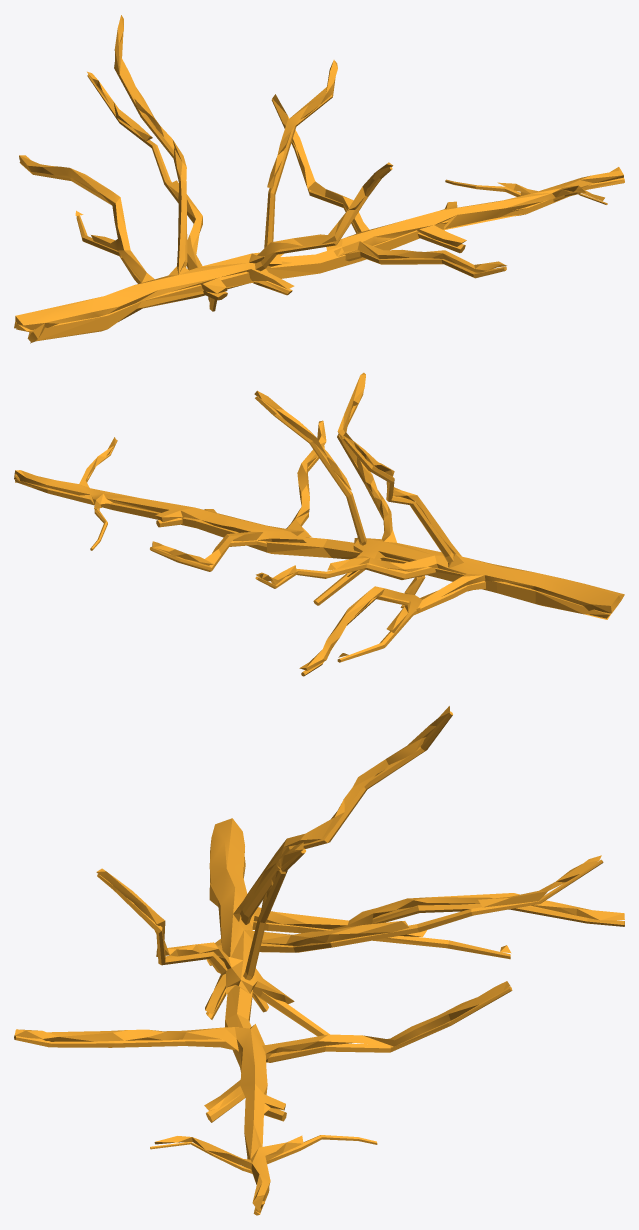
Rendered from SM_Tree_Pine_Fallen_A_Snow.fbx.
3 views of the same model, one above another, from view 1: azimuth 30°, elevation 25°; view 2: azimuth 150°, elevation 25°; view 3: azimuth 270°, elevation 25° (orthographic). The views are drawn at different scales.
Visible parts, largest first — view 1: tree-pine-fallen-a-snow; view 2: tree-pine-fallen-a-snow; view 3: tree-pine-fallen-a-snow.
Boxes of the visible parts, left/top/right/bottom form: tree-pine-fallen-a-snow: left=14, top=15, right=624, bottom=343; tree-pine-fallen-a-snow: left=14, top=372, right=624, bottom=676; tree-pine-fallen-a-snow: left=14, top=706, right=624, bottom=1215.
Bounding box in the file's own units: 9.28 × 3.49 × 6.51.
